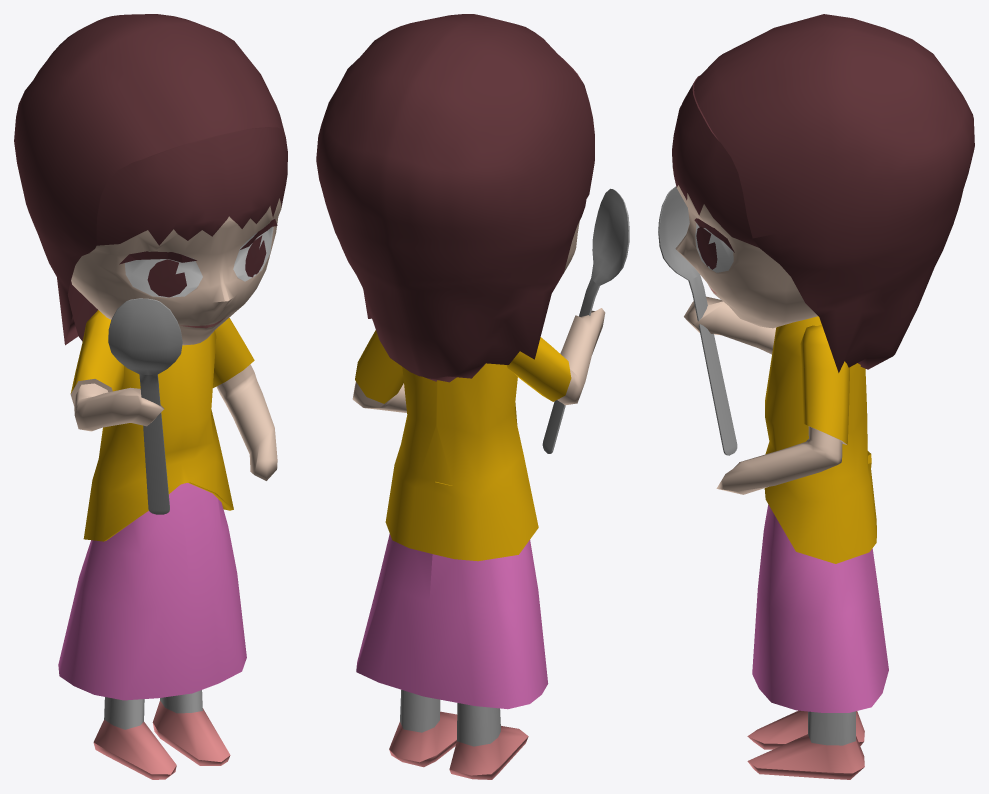
File: koma_girl.fbx
The picture shows the model from 3 angles, left to right: view 1: azimuth 30°, elevation 25°; view 2: azimuth 150°, elevation 25°; view 3: azimuth 270°, elevation 25°; orthographic projection.
Visible parts, largest first — view 1: polySurface6; view 2: polySurface6; view 3: polySurface6.
Boxes of the visible parts, x1,y1,x2,y2 form: polySurface6: [14, 14, 287, 779]; polySurface6: [316, 14, 629, 779]; polySurface6: [658, 14, 974, 779].
Size of the model in its own units: 1.66 by 5.11 by 2.02.
